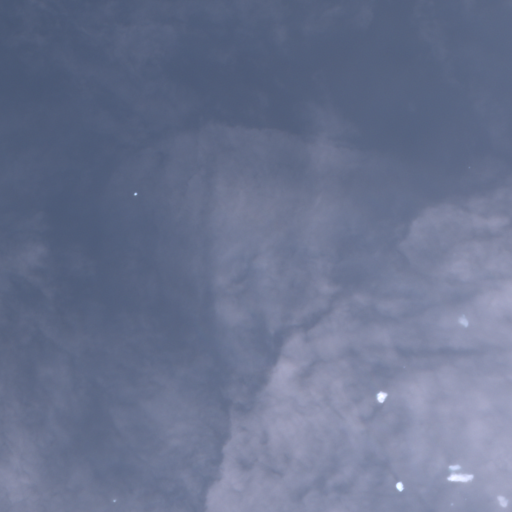Iceberg: (447, 474, 473, 481), (376, 391, 387, 402), (458, 314, 467, 327), (497, 496, 507, 506), (396, 481, 403, 491), (449, 465, 461, 469), (134, 192, 137, 195), (113, 500, 115, 501)
